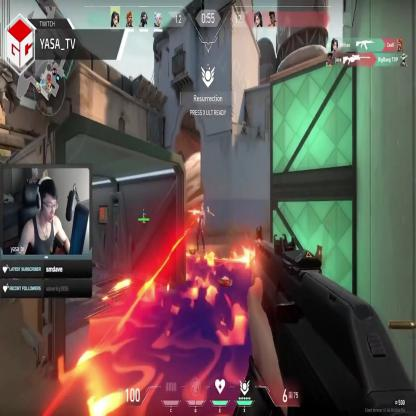enemy: (195, 207, 206, 252)
enemy_head: (198, 208, 202, 218)
